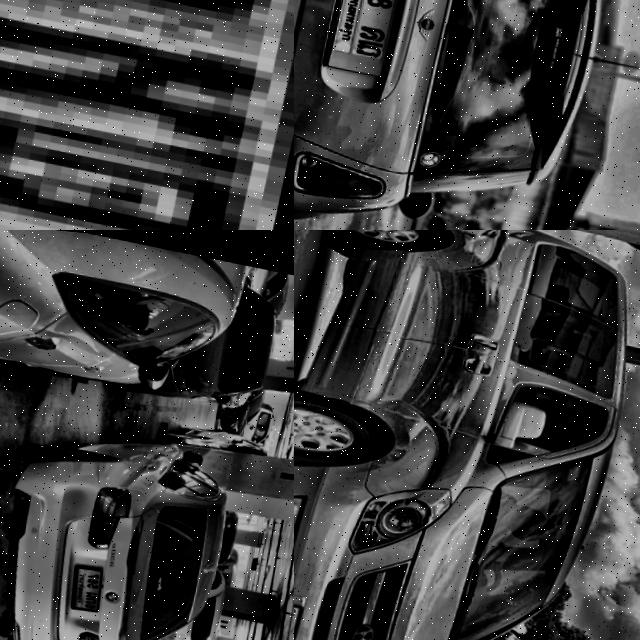license-plate: (0, 0, 294, 230), (332, 0, 424, 73), (72, 552, 117, 605), (294, 590, 316, 640)
